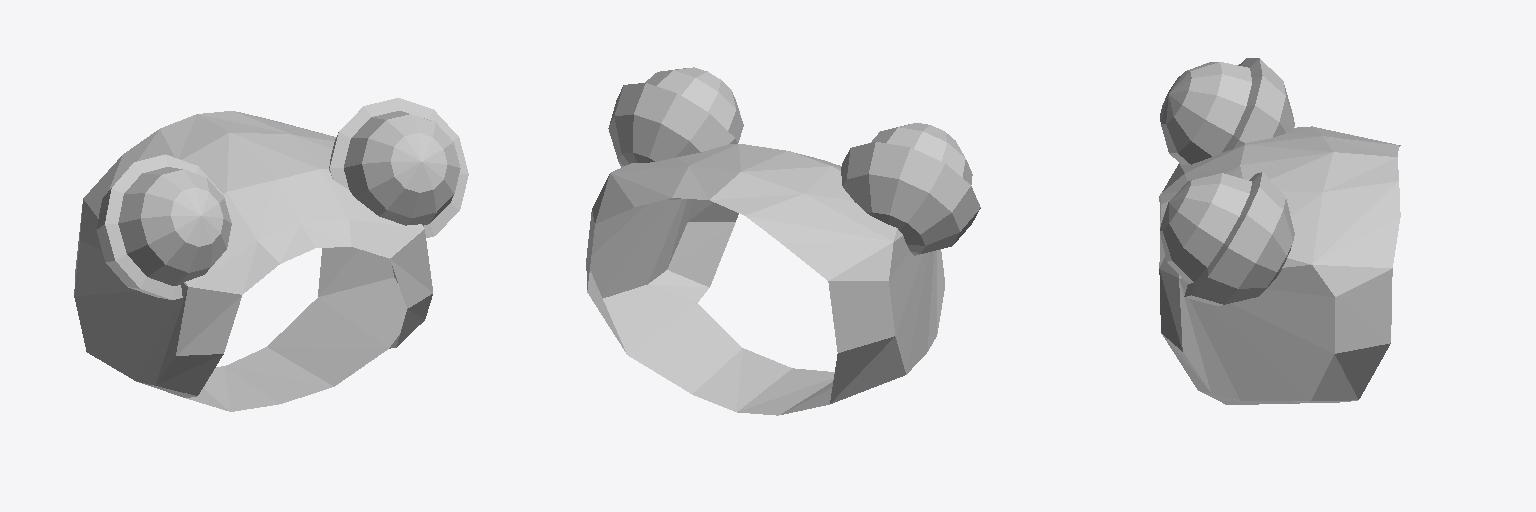
File: frog_hat.obj
3 renders of one model, left to right at view 1: azimuth 30°, elevation 25°; view 2: azimuth 150°, elevation 25°; view 3: azimuth 270°, elevation 25°, orthographic.
Visible parts, largest first — view 1: Cube.023, Cube.024, Cube.025; view 2: Cube.023, Cube.024; view 3: Cube.023, Cube.024, Cube.025.
Part boxes in pixels (x1,y1,x2,y2): Cube.023: (74,98,468,411); Cube.024: (118,111,460,285); Cube.025: (171,133,447,246); Cube.023: (586,83,980,415); Cube.024: (645,67,972,184); Cube.023: (1159,58,1400,404); Cube.024: (1160,62,1251,283); Cube.025: (1160,71,1191,230).
Bounding box in the file's own units: 1.18 × 0.8508 × 0.6972.